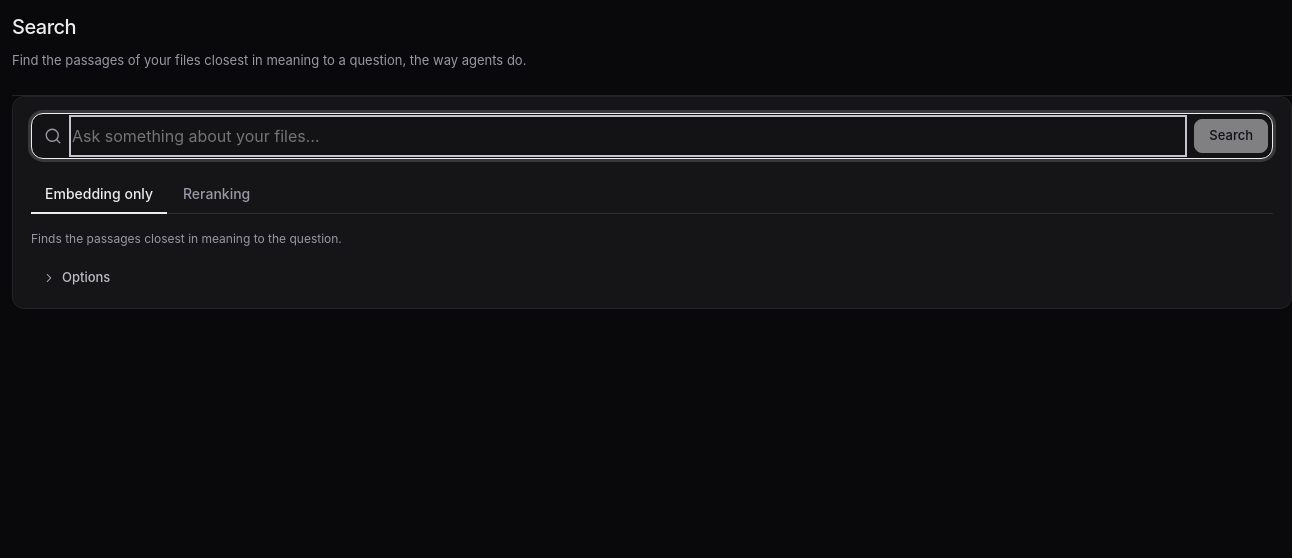
Test: SearchPage › explains how to get a cross-encoder when none exists
Click the tab "Reranking" at (217, 194), box [169, 175, 264, 214]
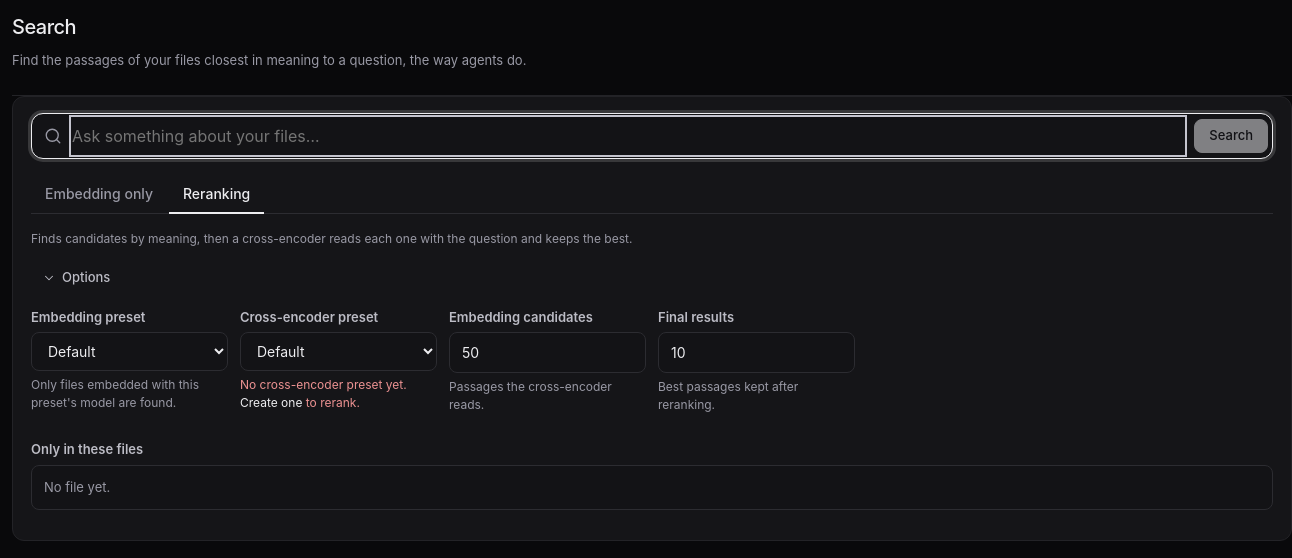
Type "green tea" into the field named "Search" at (628, 136), box [72, 118, 1184, 154]
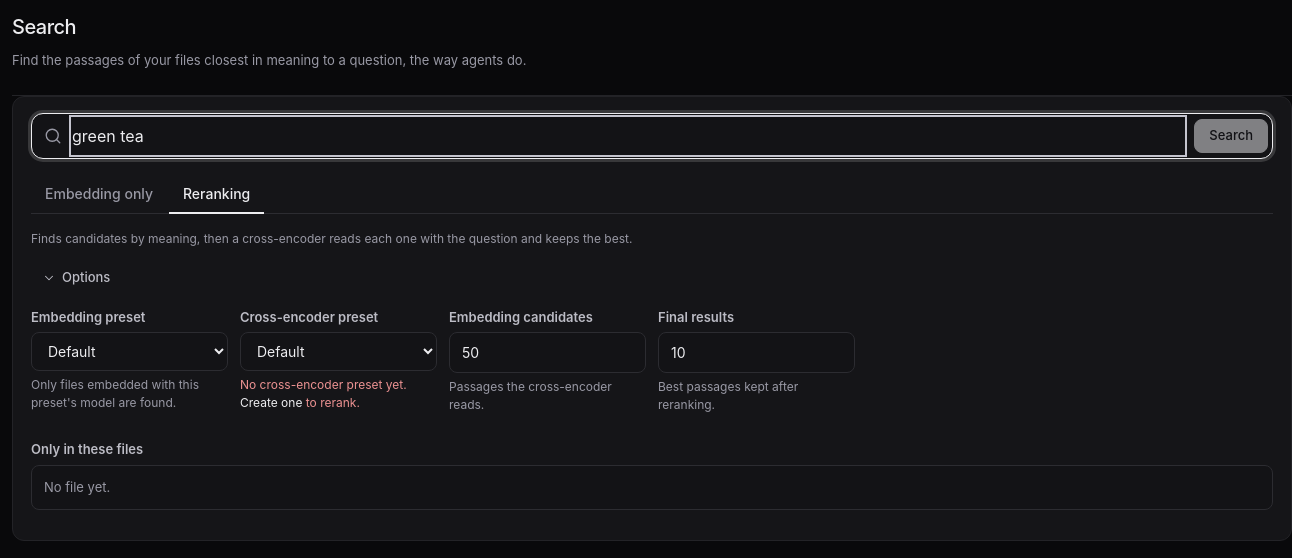
Expected: the button "Search" is disabled, [1194, 119, 1268, 153]
Expected: the text "No cross-encoder preset yet. Create one to rerank." is shown, [240, 377, 407, 410]
Click the tab "Embedding only" at (99, 194), box [31, 175, 167, 214]
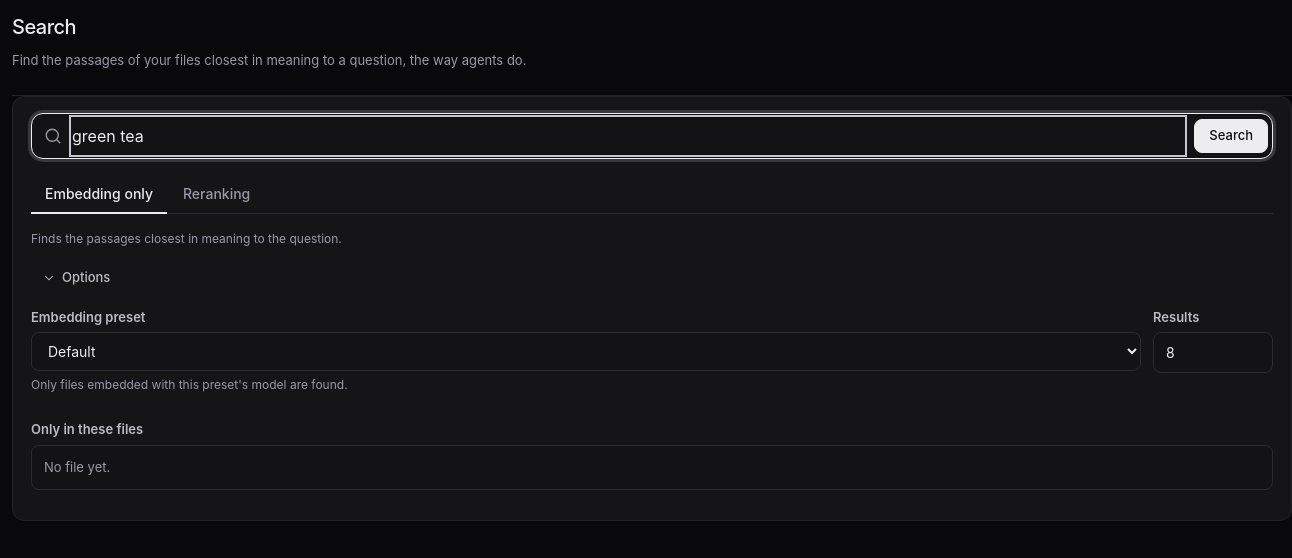
Expected: the button "Search" is enabled, [1194, 119, 1268, 153]
